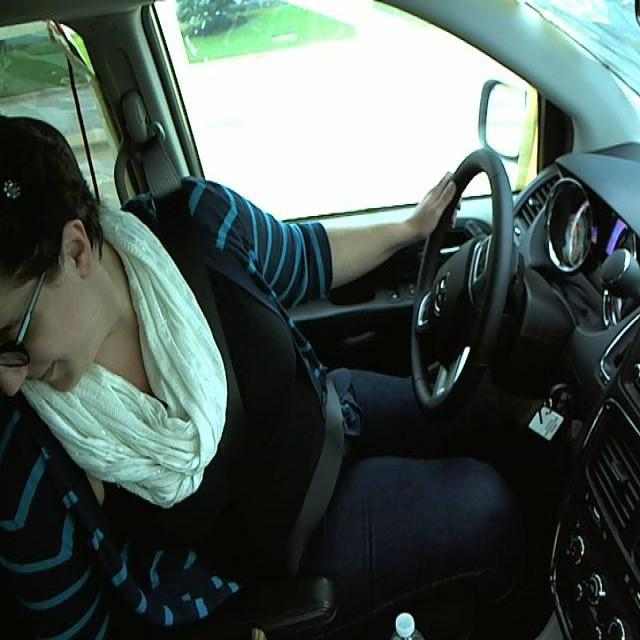seatbelt: (153, 204, 354, 579)
